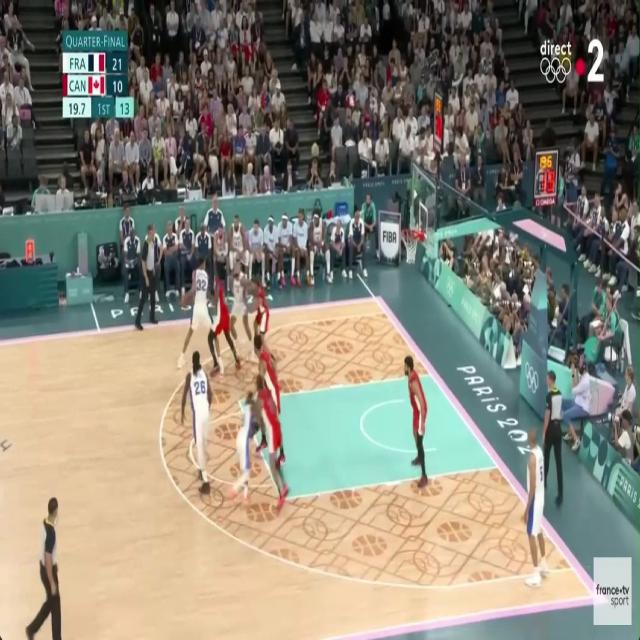ball_handler: (175, 258, 212, 367)
